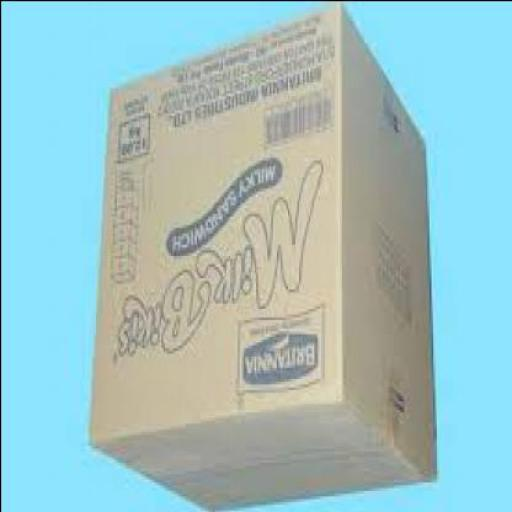cardboard: (89, 2, 438, 511)
